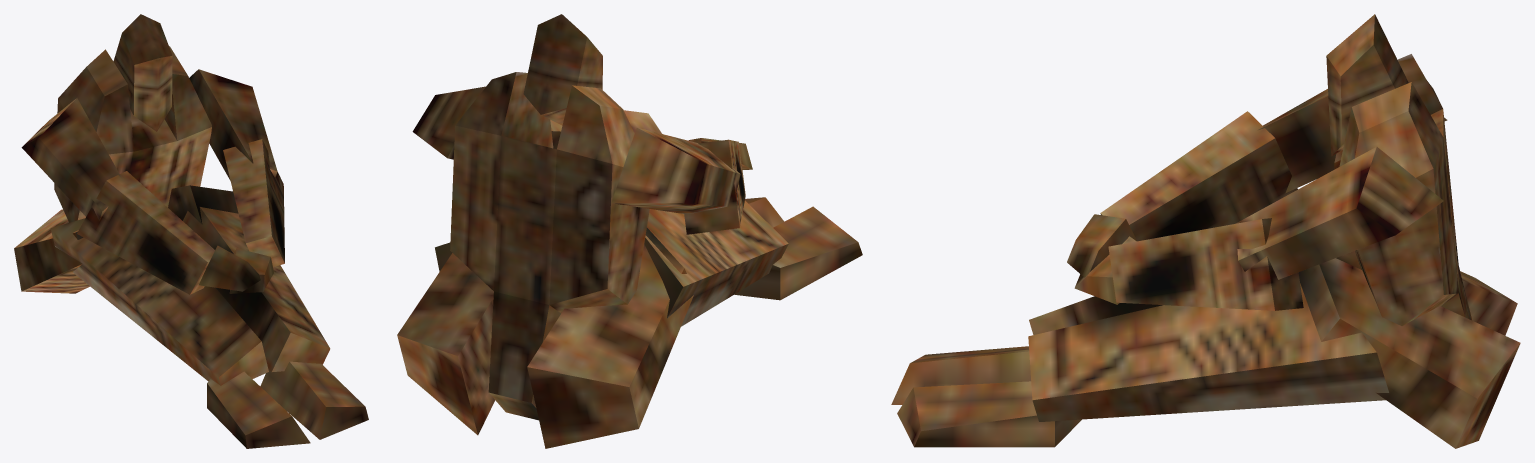
Rendered from ICON.ICO.obj.
3 views of the same model, side by side, from view 1: azimuth 30°, elevation 25°; view 2: azimuth 150°, elevation 25°; view 3: azimuth 270°, elevation 25° (orthographic). The views are drawn at different scales.
Bounding box in the file's own units: 1.75 × 2.33 × 3.25.
1 material, 1 textured.
